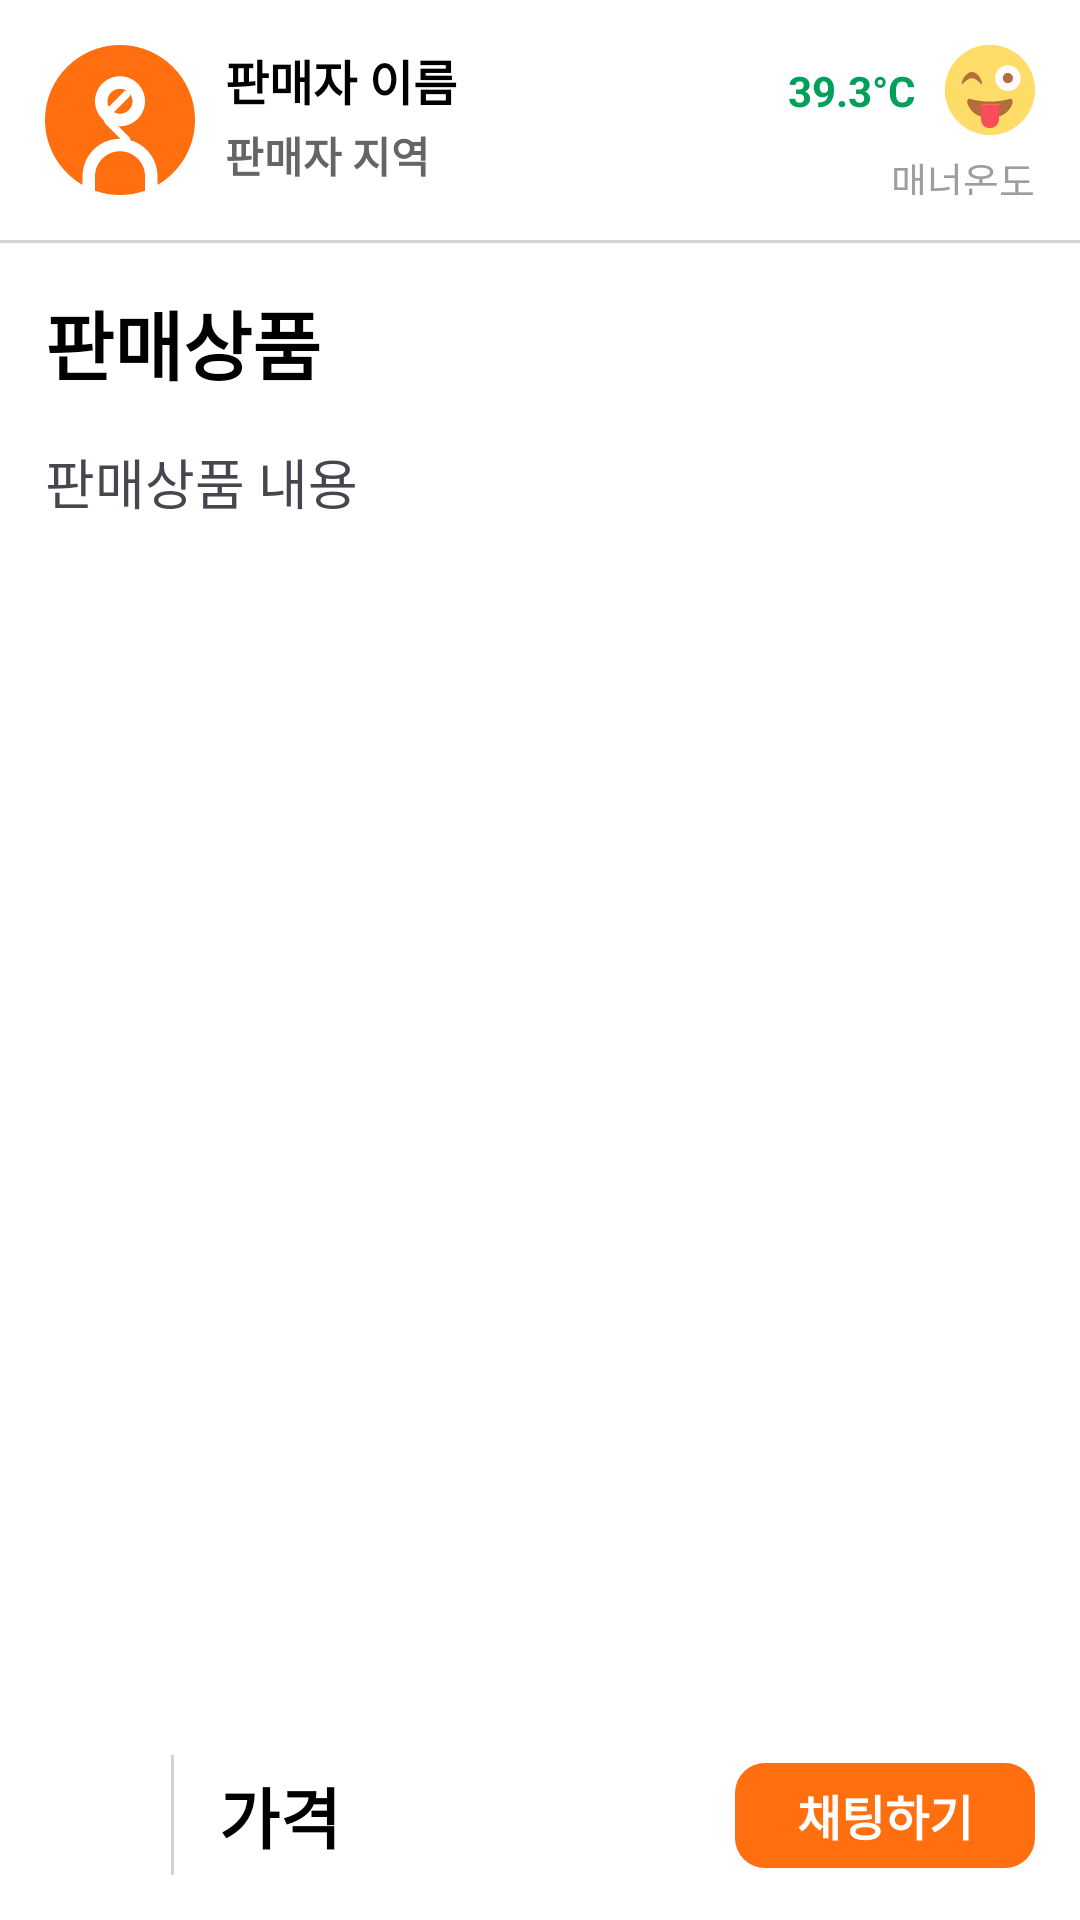

Screen size 1080px x 1920px. Icon name, then its box in pixels as (x1, y1, x2, y2):
emogi: (945, 45, 1035, 135)
